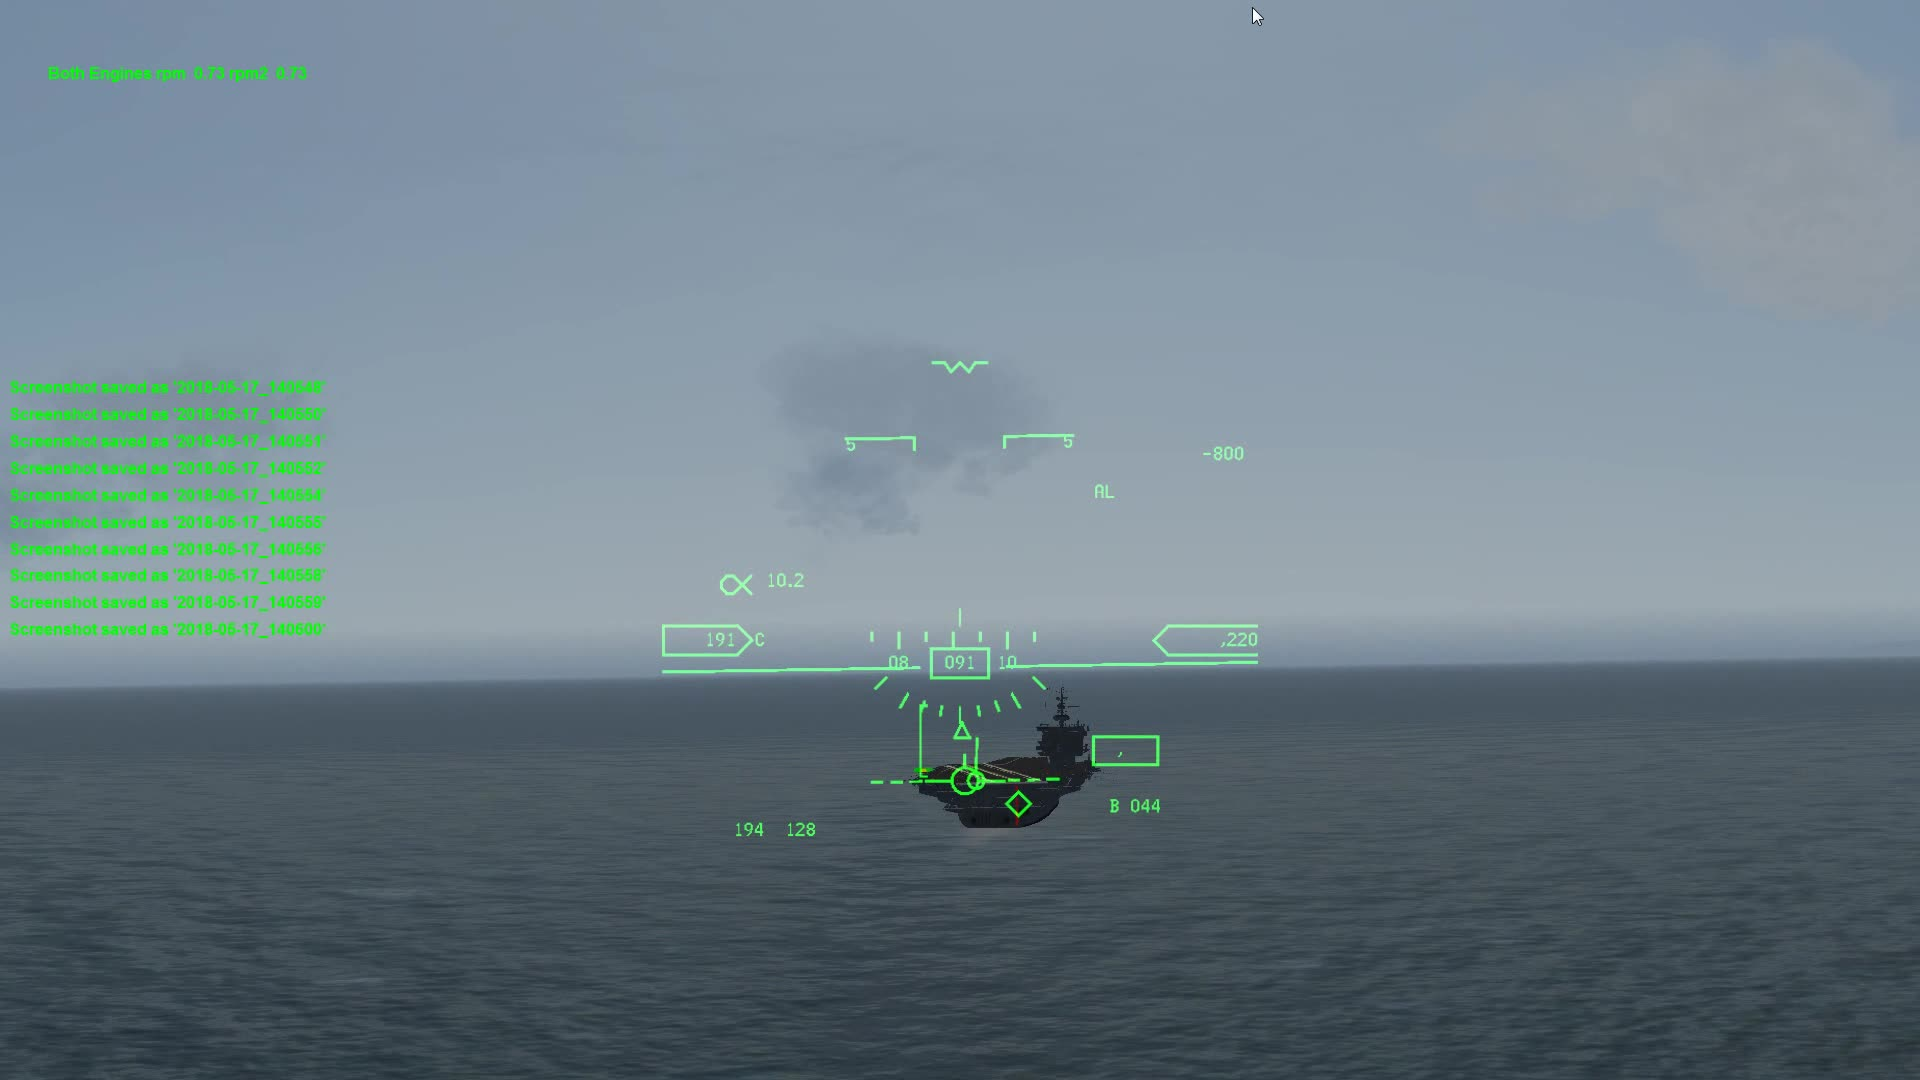speed vector: (922, 761, 1015, 806)
